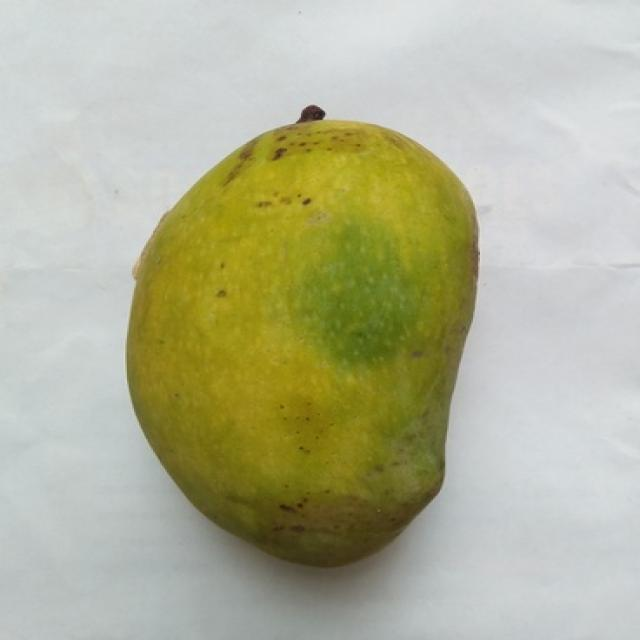Mango: (129, 107, 477, 564)
